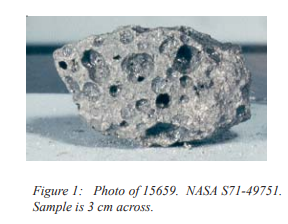Basalt: (27, 16, 268, 161)
